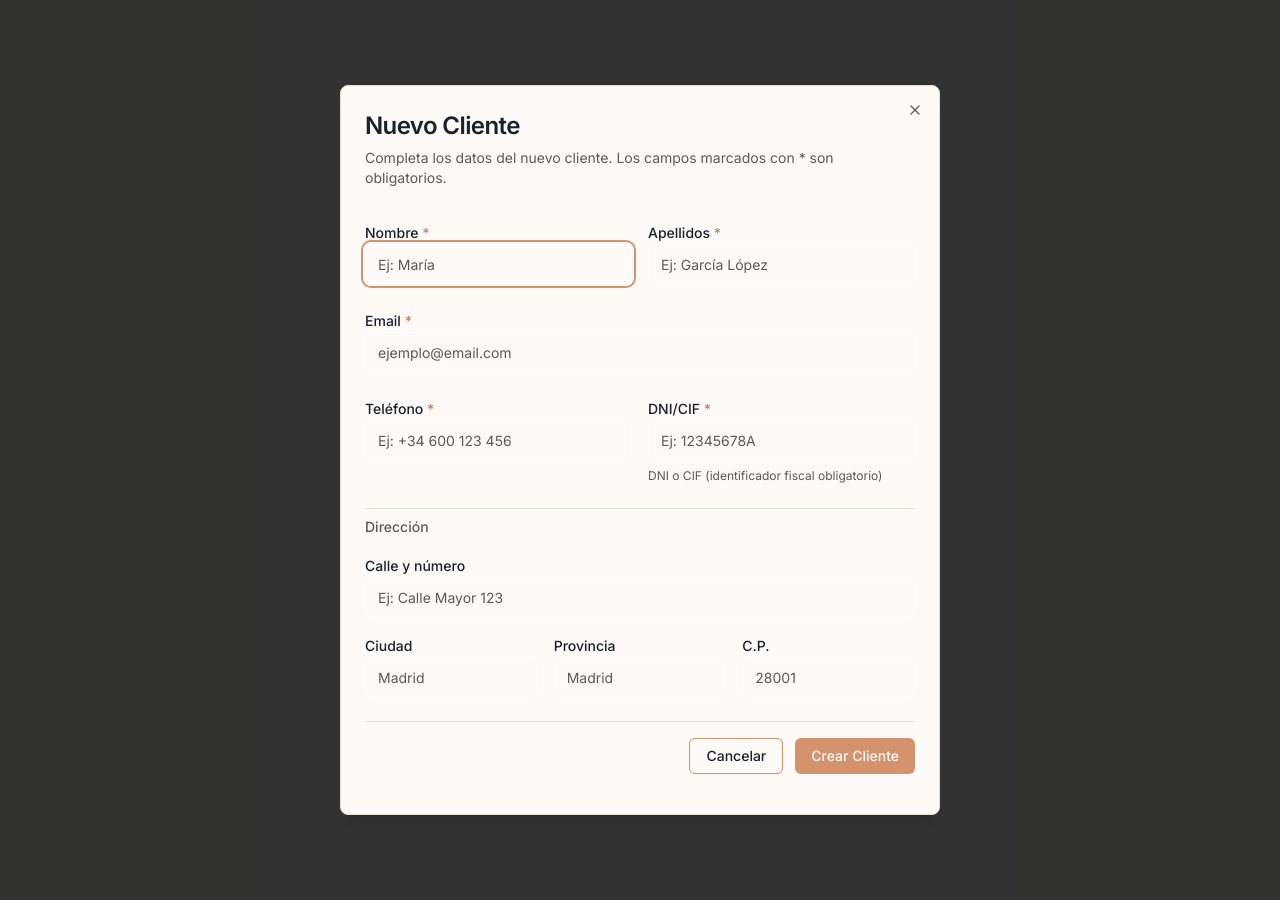
Scenario: CreateClientModal › validates required fields
# Try submit empty
Click the button "Crear Cliente".
click(855, 756)  # box [795,738,915,774]
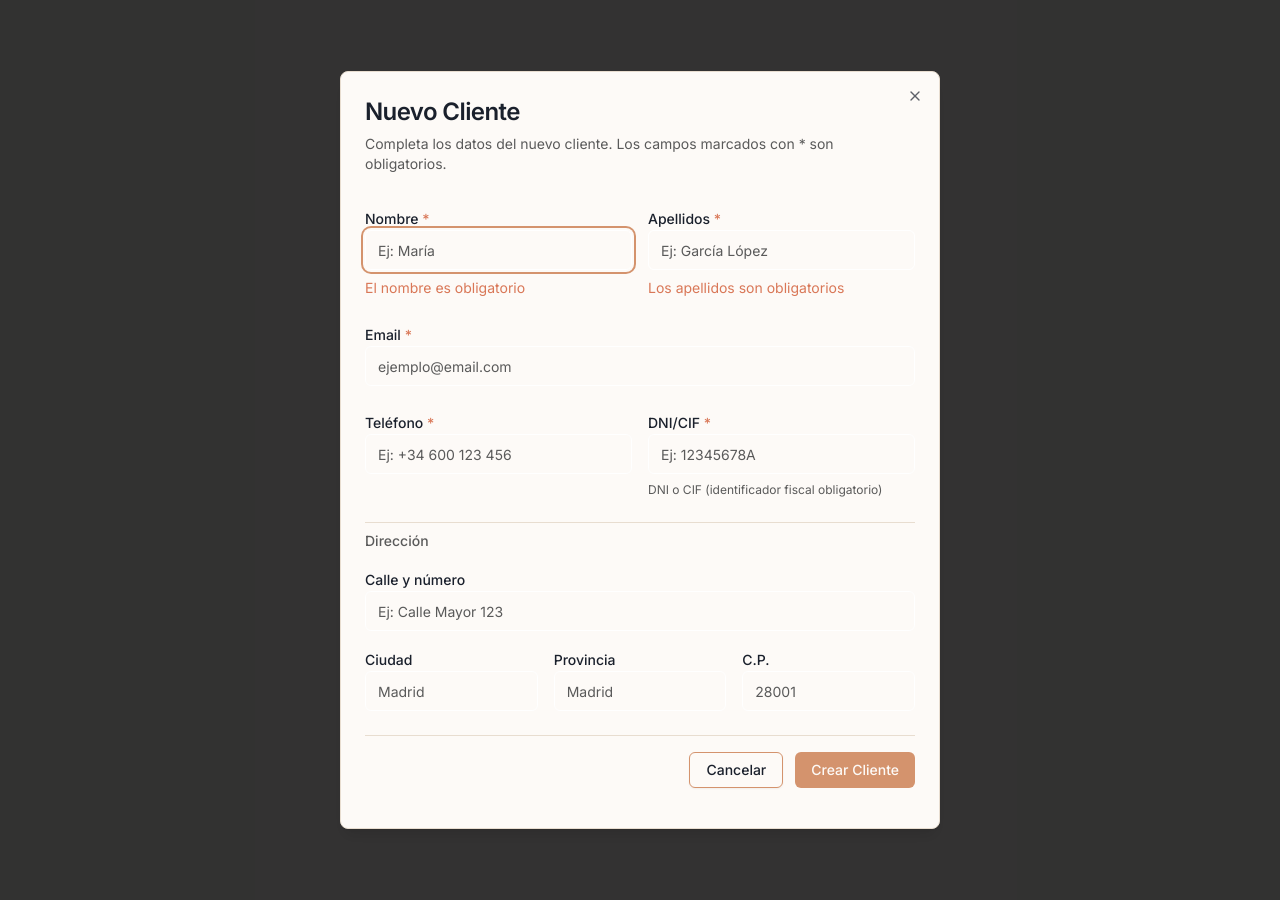
Expected: the text "El nombre es obligatorio" is shown, [365,279,525,296]
